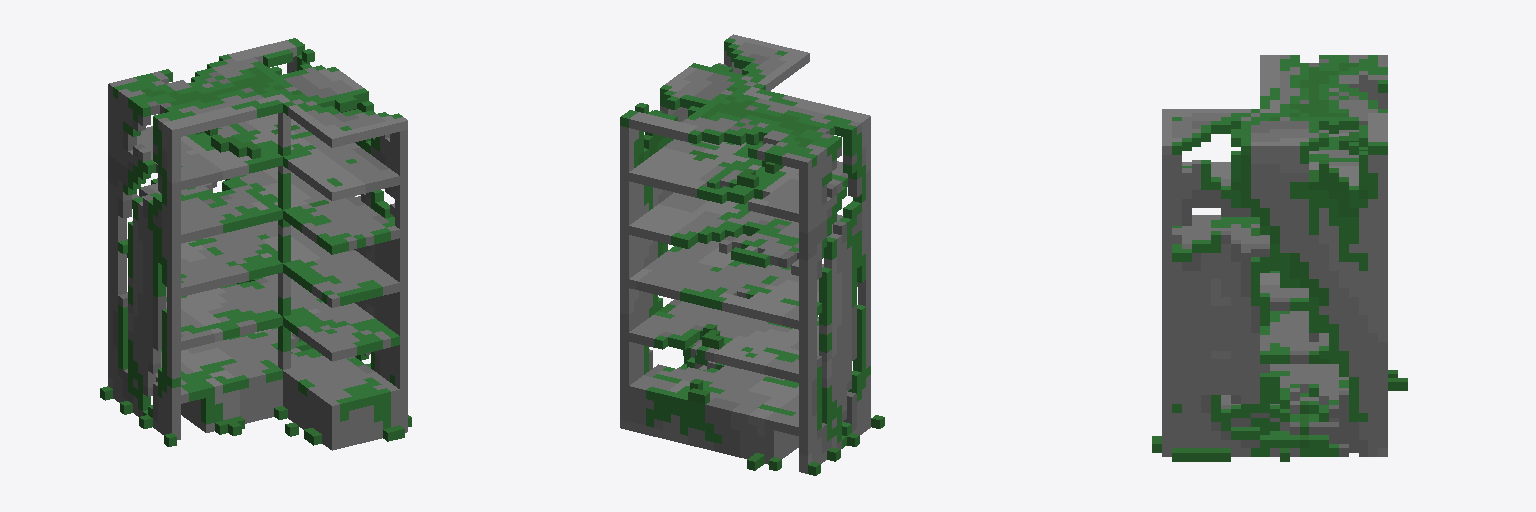
The picture shows the model from 3 angles: view 1: azimuth 30°, elevation 25°; view 2: azimuth 150°, elevation 25°; view 3: azimuth 270°, elevation 25°; orthographic projection.
Visible parts, largest first — view 1: object 1; view 2: object 1; view 3: object 1.
Boxes of the visible parts, x1,y1,x2,y2 form: object 1: [100, 38, 411, 450]; object 1: [620, 34, 884, 475]; object 1: [1152, 55, 1407, 461].
Size of the model in its own units: 2.4 by 3.5 by 2.6.
1 materials, 1 textured.